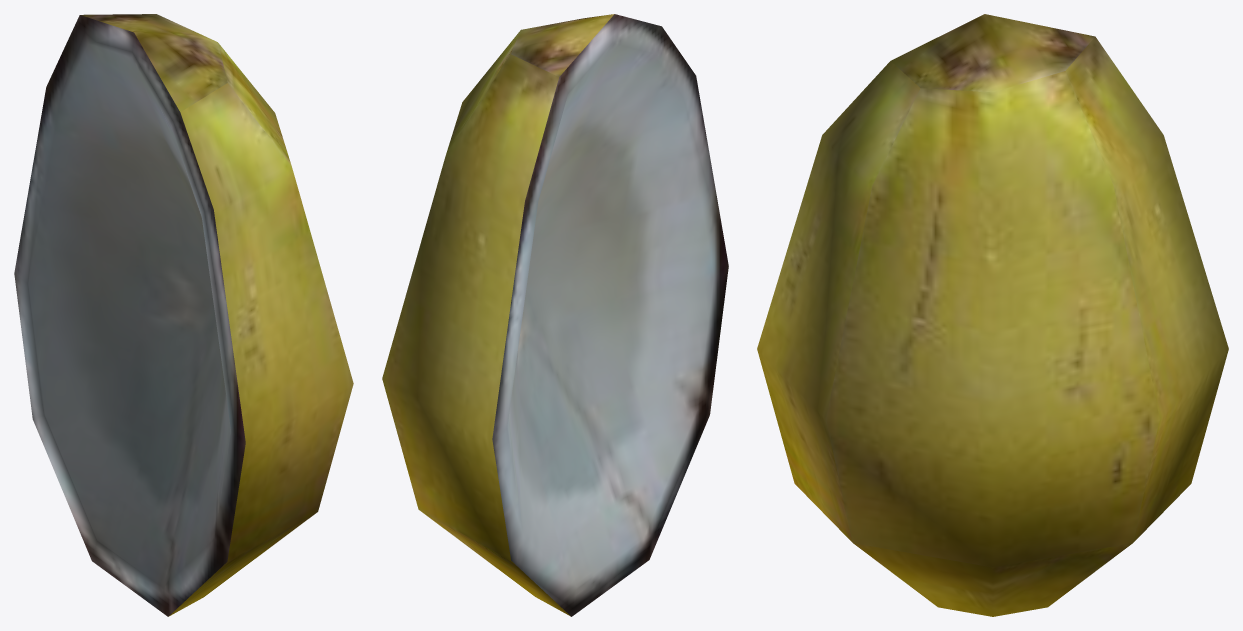
File: Coconut_01.glb
3 renders of one model, left to right at view 1: azimuth 30°, elevation 25°; view 2: azimuth 150°, elevation 25°; view 3: azimuth 270°, elevation 25°, orthographic. The views are drawn at different scales.
Visible parts, largest first — view 1: Coconut_01; view 2: Coconut_01; view 3: Coconut_01.
Boxes of the visible parts, left/top/right/bottom form: Coconut_01: left=14, top=14, right=353, bottom=616; Coconut_01: left=382, top=14, right=728, bottom=616; Coconut_01: left=757, top=14, right=1228, bottom=616.
Bounding box in the file's own units: 0.1198 × 0.3195 × 0.2396.
1 material, 1 textured.
